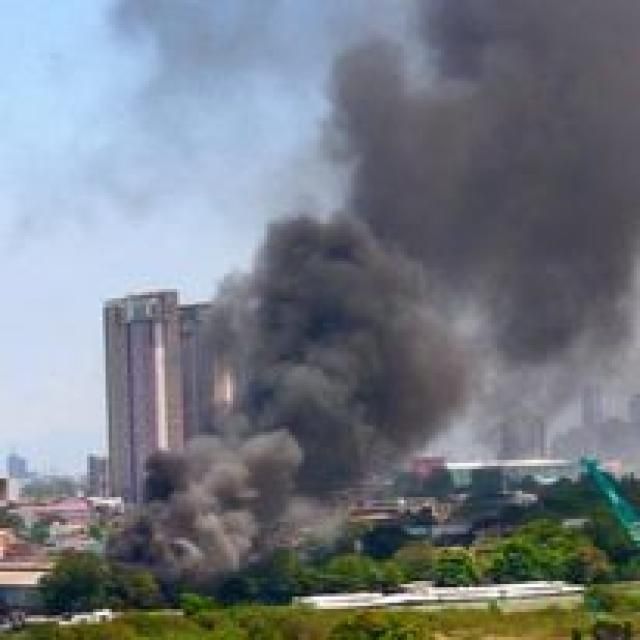Smoke: (90, 0, 640, 613)
